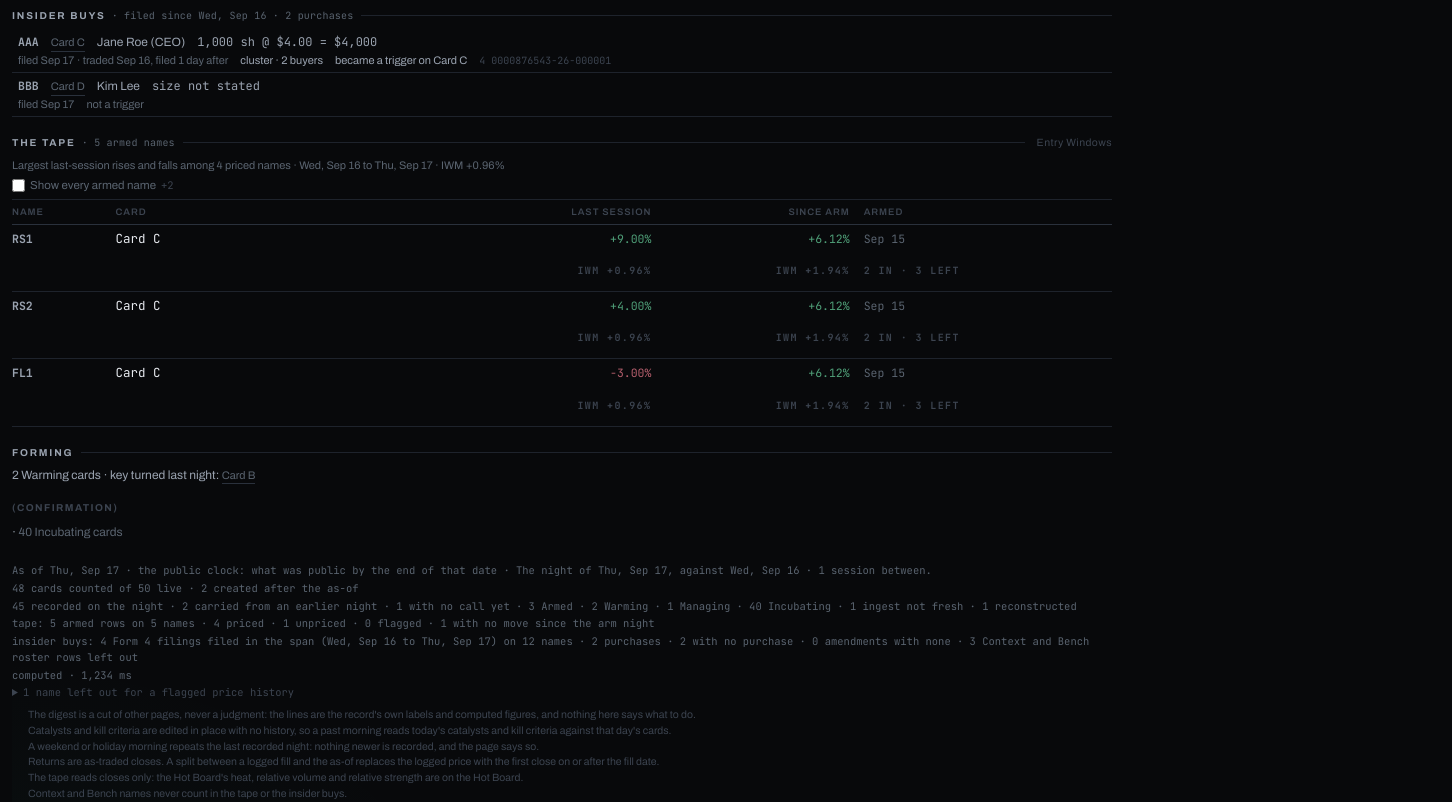
Test case: DailyDigest — forming and the work › opens the flagged names under the page's note and states the limits
(page scrolled)
Click the heading "1 name left out for a flagged price history".
click(153, 693)  # box [12, 685, 294, 701]
(page scrolled)
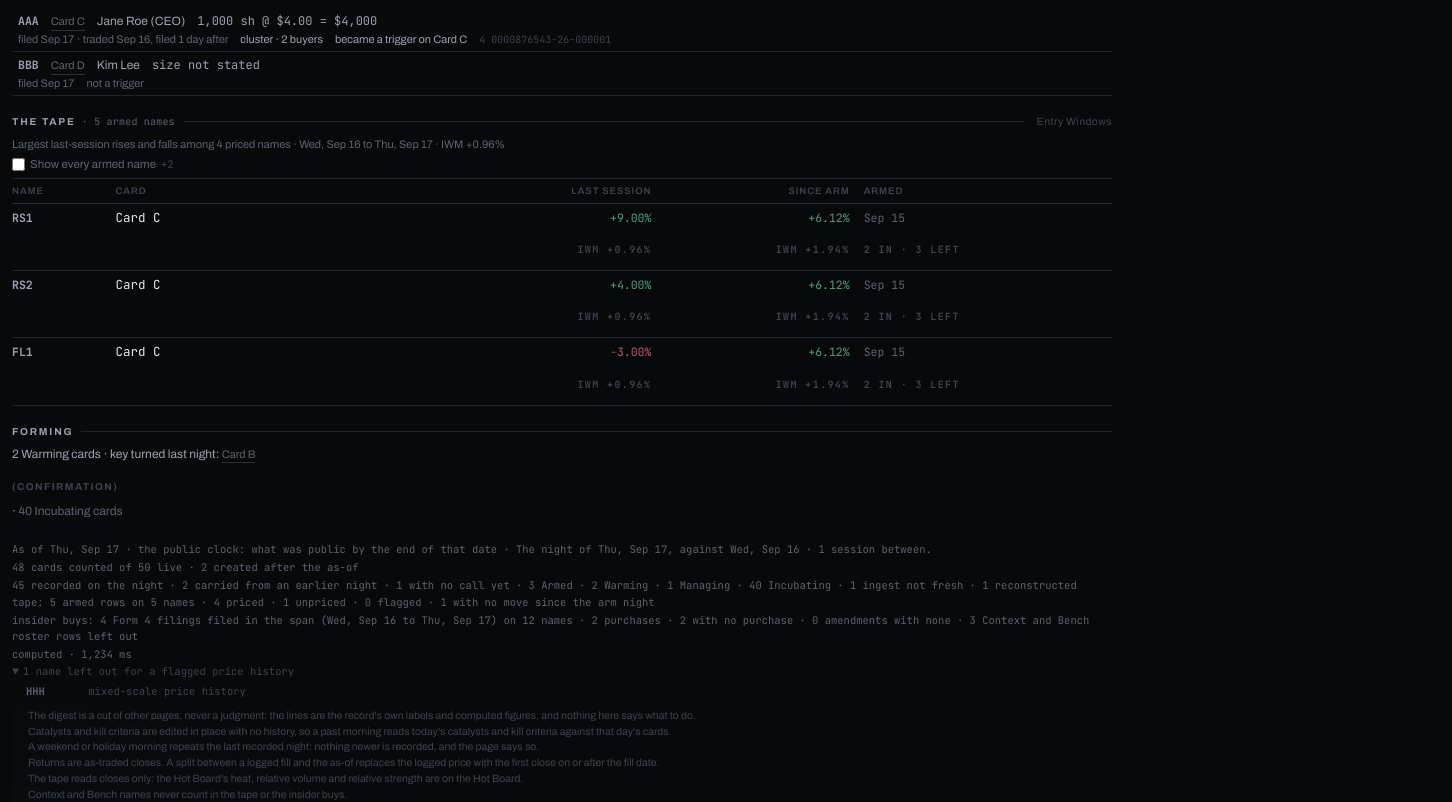
Expected: the list item "The digest is a cut of other pages, never a judgment: the lines are the record's own labels and computed figures, and no" is shown, [28, 710, 696, 721]
Result: the list item "mixed-scale price history" is shown at [88, 684, 246, 698]
